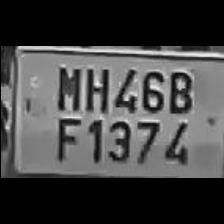1: (80, 116, 104, 162)
3: (103, 116, 131, 162)
4: (158, 117, 190, 165), (109, 64, 137, 112)
6: (136, 65, 166, 113)
7: (131, 116, 159, 166)
B: (162, 65, 194, 113)
F: (50, 114, 80, 160)
H: (80, 62, 108, 112)
M: (48, 62, 82, 112)
